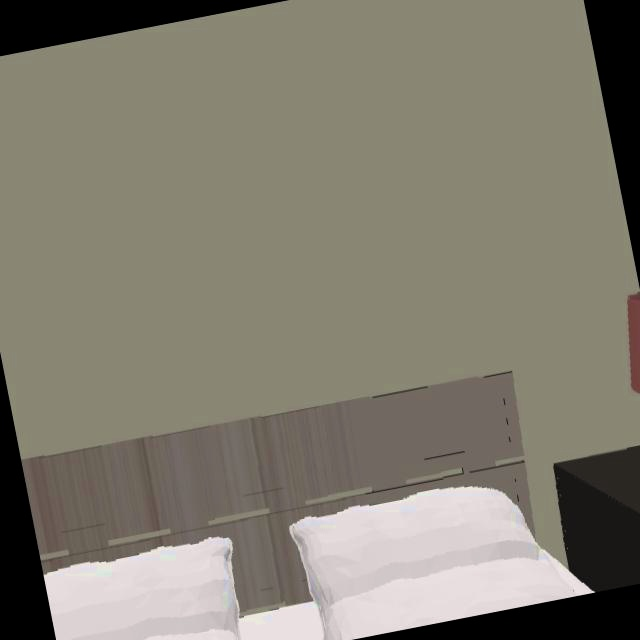lamp: (628, 292, 640, 393)
nighttable: (554, 445, 640, 591)
pillow: (291, 488, 588, 640), (44, 539, 242, 640)
